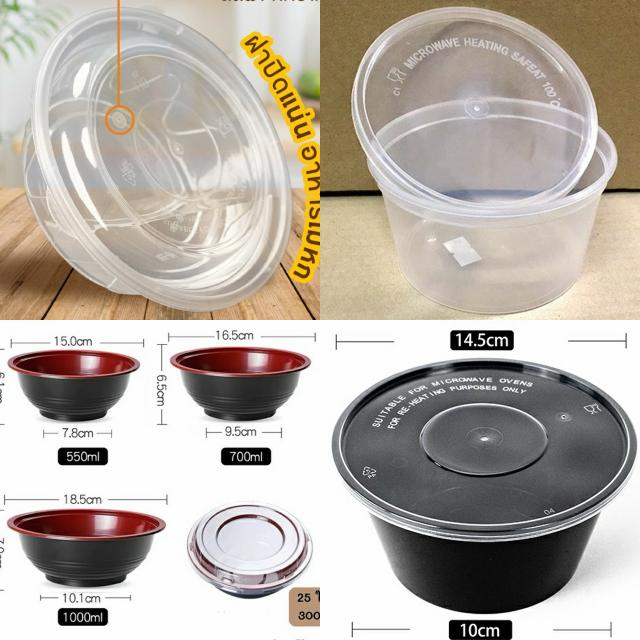Single-Use-Plastic: (22, 8, 291, 311), (352, 8, 616, 313), (332, 359, 636, 612), (8, 509, 165, 586), (188, 502, 312, 598), (170, 348, 310, 420), (8, 350, 140, 421)
